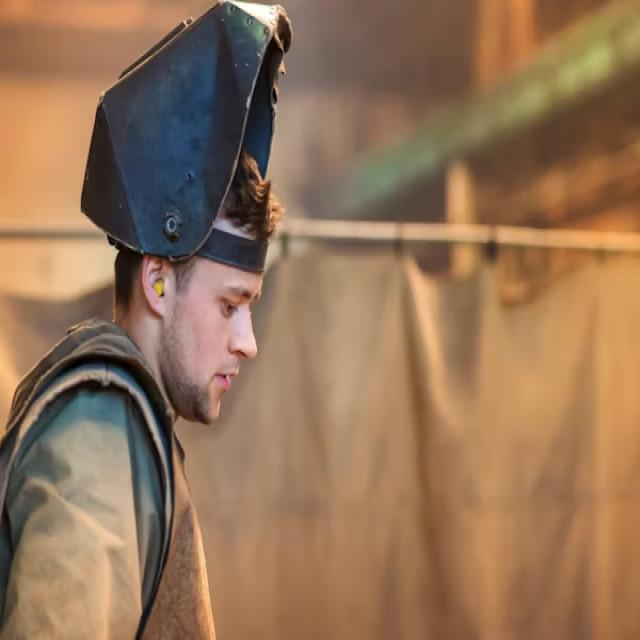helmet_lifted: (70, 1, 288, 447)
